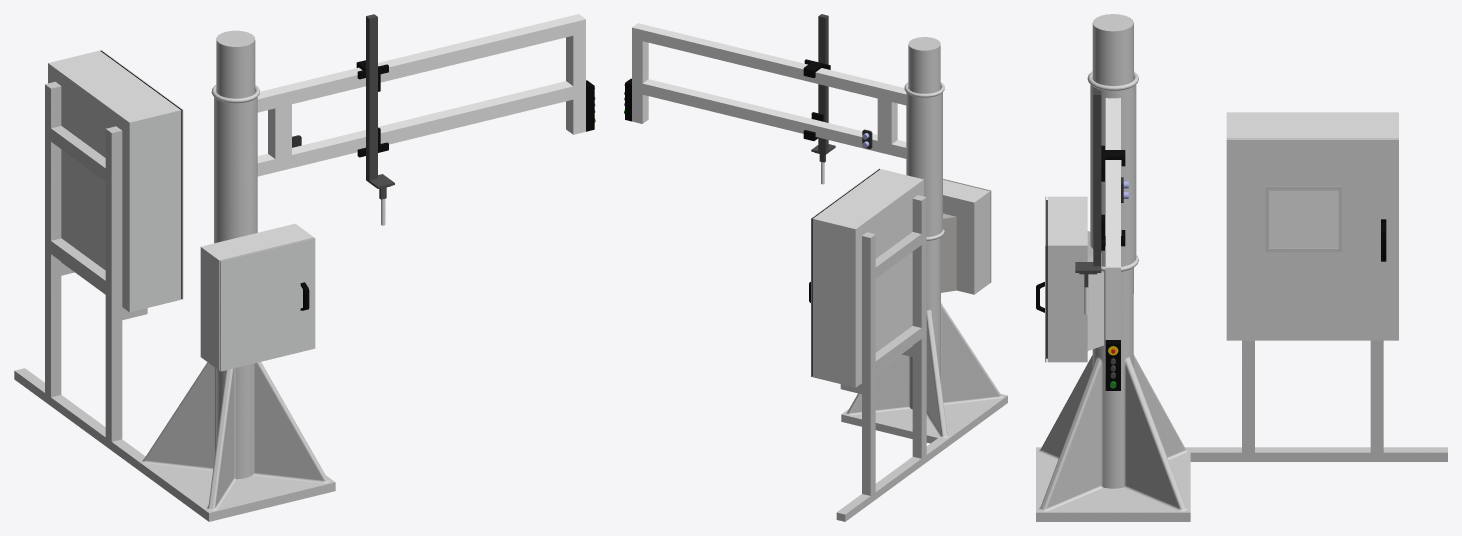
File: Single Column Pallet Drum Filler.glb
3 views of the same model, side by side, from view 1: azimuth 30°, elevation 25°; view 2: azimuth 150°, elevation 25°; view 3: azimuth 270°, elevation 25° (orthographic). The views are drawn at different scales.
Visible parts, largest first — view 1: Solid1, Solid4, Solid2, Solid3, Solid24, Solid5, Solid8; view 2: Solid1, Solid4, Solid2, Solid3, Solid5, Solid8, Solid6; view 3: Solid4, Solid1, Solid5, Solid3, Solid26, Solid2, Solid8, Solid21, Solid6.
Boxes of the visible parts, x1,y1,x2,y2 form: Solid1: (136,30,335,521); Solid4: (48,50,183,312); Solid2: (257,14,585,176); Solid3: (14,81,147,467); Solid24: (220,238,315,371); Solid5: (200,223,314,370); Solid8: (366,14,394,225); Solid1: (841,37,1007,447); Solid4: (811,168,923,387); Solid2: (632,23,906,158); Solid3: (836,195,946,521); Solid5: (940,179,990,294); Solid8: (811,14,835,184); Solid6: (803,62,823,140); Solid4: (1226,112,1398,340); Solid1: (1036,14,1190,521); Solid5: (1046,196,1103,362); Solid3: (1190,340,1447,461); Solid26: (1265,186,1342,252); Solid2: (1105,98,1120,339); Solid8: (1075,90,1101,314); Solid21: (1105,340,1120,390); Solid6: (1101,150,1125,246).
Size of the model in its own units: 2 by 2 by 1.6.
17 materials, 4 textured.
